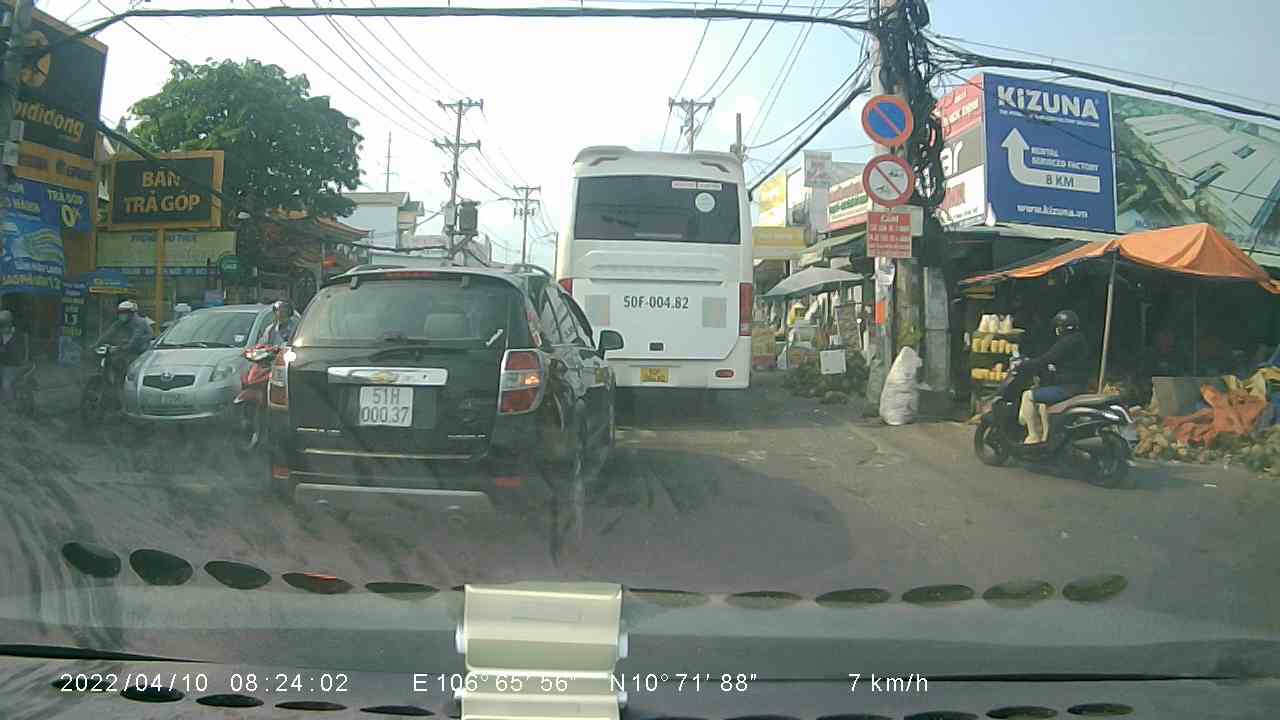Bien khac: (861, 153, 916, 207)
Cam do xe: (858, 91, 921, 147)
